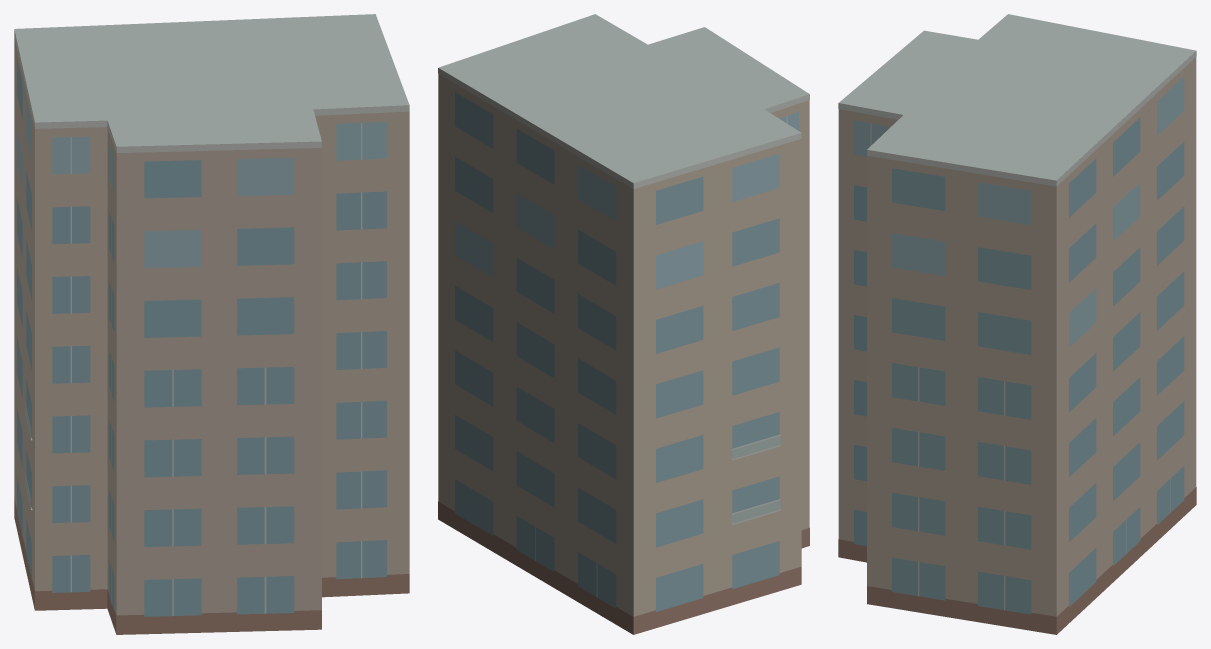
The model's file is survey-upis-32525453.glb.
3 views of the same model, side by side, from view 1: azimuth 30°, elevation 25°; view 2: azimuth 150°, elevation 25°; view 3: azimuth 270°, elevation 25° (orthographic). The views are drawn at different scales.
Visible parts, largest first — view 1: survey-upis-32525453.tmp; view 2: survey-upis-32525453.tmp; view 3: survey-upis-32525453.tmp.
Boxes of the visible parts, x1,y1,x2,y2 form: survey-upis-32525453.tmp: (14, 14, 409, 634); survey-upis-32525453.tmp: (438, 14, 809, 634); survey-upis-32525453.tmp: (838, 14, 1196, 634).
Size of the model in its own units: 14.64 by 18.6 by 13.29.
